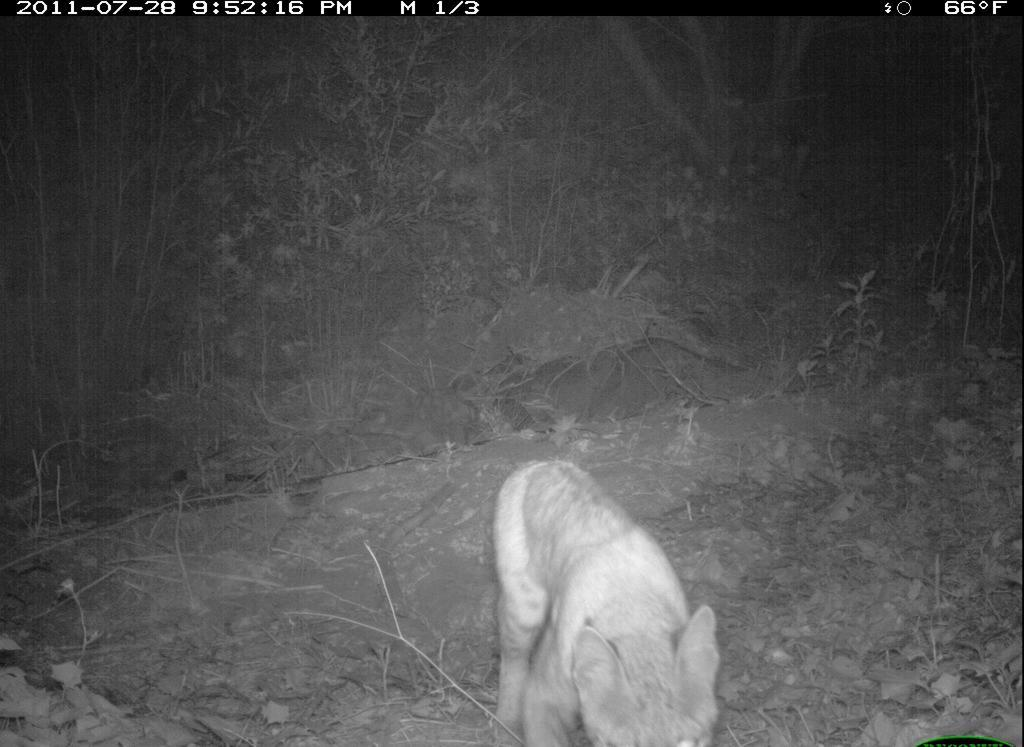bobcat: (461, 452, 734, 747)
